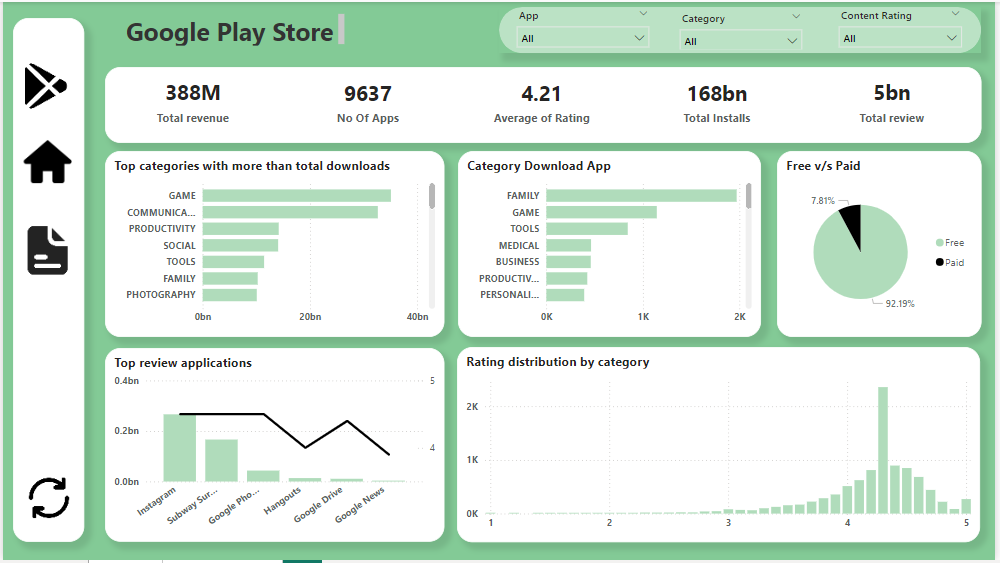

The page's visual inventory and layout, read from the dashboard file:
{"tool":"powerbi","page":{"name":"Home","canvas":[1280,720],"ordinal":0},"visuals":[{"type":"shape","box":[640.6,7.1,622.2,59.5],"z":0},{"type":"shape","box":[131.8,83.6,1131,97.8],"z":1000},{"type":"card","fields":{"Values":["Play Store Data (2).Total Installs"]},"box":[844.4,83.6,154.5,87.9],"z":2000},{"type":"card","fields":{"Values":["Play Store Data (2).Total revenue"]},"box":[167.2,83.6,154.5,86.5],"z":3000},{"type":"card","fields":{"Values":["Play Store Data (2).Total review"]},"box":[1070.1,83.6,154.5,86.5],"z":4000},{"type":"card","fields":{"Values":["Play Store Data (2).No Of Apps"]},"box":[393,83.6,154.5,87.9],"z":5000},{"type":"card","fields":{"Values":["Avg(Play Store Data (2).Rating)"]},"box":[618.7,83.6,154.5,87.9],"z":6000},{"type":"shape","box":[12.8,21.3,92.1,676.1],"z":7000},{"type":"pieChart","title":"Free v/s Paid","fields":{"Category":["Play Store Data (2).Type"],"Y":["Play Store Data (2).No Of Apps"]},"box":[999.2,192.8,263.6,239.5],"z":8000},{"type":"slicer","fields":{"Values":["Play Store Data (2).Category"]},"box":[863.4,6.7,178.1,55.4],"z":9000},{"type":"textbox","box":[153.1,9.9,292,51],"z":10000},{"type":"barChart","title":"Top categories with more than total downloads","fields":{"Category":["Play Store Data (2).Category"],"Y":["Sum(Play Store Data (2).Installs)"]},"box":[131.8,192.8,438,239.5],"z":11000},{"type":"clusteredBarChart","title":"Category Download App","fields":{"Category":["Play Store Data (2).Category"],"Y":["CountNonNull(Play Store Data (2).App)"]},"box":[586.8,192.8,391.2,239.5],"z":12000},{"type":"columnChart","title":"Rating distribution by category","fields":{"Category":["Play Store Data (2).Rating"],"Y":["Play Store Data (2).No Of Apps"]},"box":[586.2,445.1,675.3,252],"z":13000},{"type":"image","box":[11.4,163.2,92.1,83.6],"z":14000},{"type":"image","box":[17.9,68.8,79.8,79.8],"z":15000},{"type":"image","box":[18.5,279.5,79.4,80.8],"z":16000},{"type":"image","box":[19.8,603.8,79.4,72.3],"z":17000},{"type":"lineStackedColumnComboChart","title":"Top review applications ","fields":{"Category":["Play Store Data (2).App"],"Y":["Sum(Play Store Data (2).Reviews)"],"Y2":["Play Store Data (2).Avg Rating"]},"box":[131,446.8,438.4,250.3],"z":18000},{"type":"slicer","fields":{"Values":["Play Store Data (2).Content Rating"]},"box":[1068.7,2.8,178.6,63.8],"z":19000},{"type":"slicer","fields":{"Values":["User Reviews (1).App"]},"box":[653.4,2.8,191.3,60.9],"z":20000}]}

Visuals, with their boxes in screenshot pixels (x1, y1, x2, y2):
shape: bbox=[496, 5, 976, 51]
shape: bbox=[104, 64, 976, 140]
card - Play Store Data (2).Total Installs: bbox=[653, 64, 772, 132]
card - Play Store Data (2).Total revenue: bbox=[131, 64, 250, 131]
card - Play Store Data (2).Total review: bbox=[827, 64, 946, 131]
card - Play Store Data (2).No Of Apps: bbox=[305, 64, 424, 132]
card - Avg(Play Store Data (2).Rating): bbox=[479, 64, 598, 132]
shape: bbox=[12, 16, 83, 537]
"Free v/s Paid" pieChart: bbox=[772, 149, 976, 333]
slicer - Play Store Data (2).Category: bbox=[668, 5, 805, 48]
textbox: bbox=[121, 8, 346, 47]
"Top categories with more than total downloads" barChart: bbox=[104, 149, 442, 333]
"Category Download App" clusteredBarChart: bbox=[455, 149, 756, 333]
"Rating distribution by category" columnChart: bbox=[454, 343, 975, 537]
image: bbox=[11, 126, 82, 190]
image: bbox=[16, 53, 78, 114]
image: bbox=[17, 215, 78, 278]
image: bbox=[18, 465, 79, 521]
"Top review applications " lineStackedColumnComboChart: bbox=[104, 344, 441, 537]
slicer - Play Store Data (2).Content Rating: bbox=[826, 2, 964, 51]
slicer - User Reviews (1).App: bbox=[506, 2, 653, 49]
